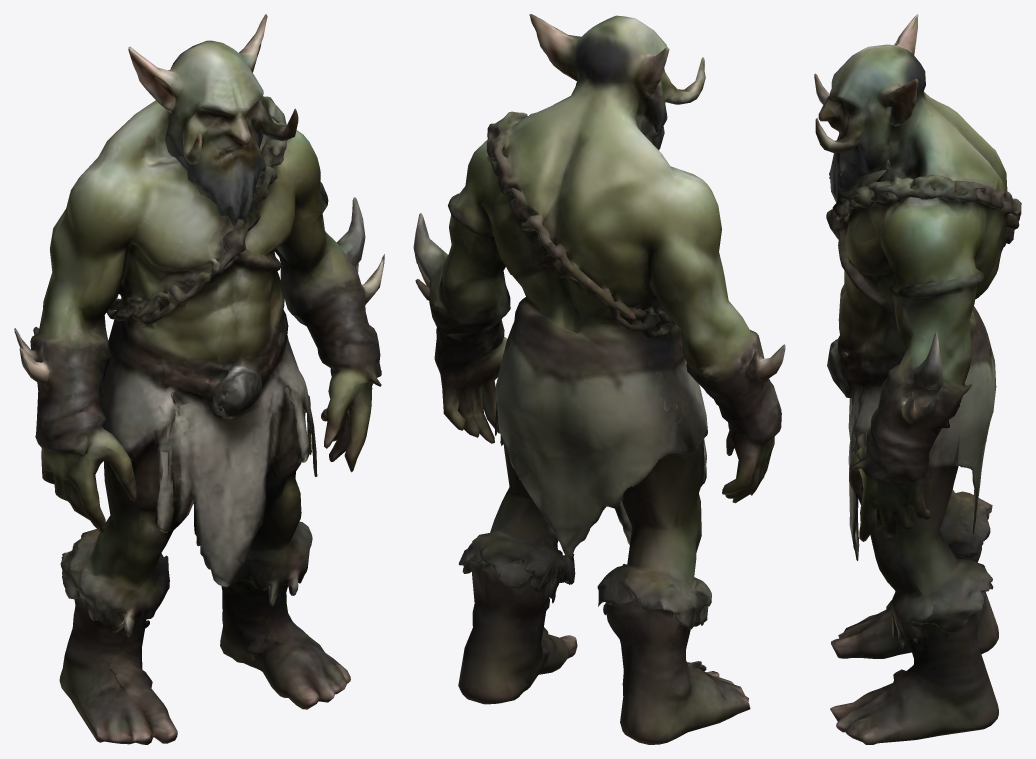
Rendered from g_2acef827.glb.
3 renders of one model, left to right at view 1: azimuth 30°, elevation 25°; view 2: azimuth 150°, elevation 25°; view 3: azimuth 270°, elevation 25°, orthographic. The views are drawn at different scales.
Parts seen in each view (by area): view 1: Mesh_0; view 2: Mesh_0; view 3: Mesh_0.
Boxes of the visible parts, x1,y1,x2,y2 form: Mesh_0: (14, 14, 384, 744); Mesh_0: (413, 14, 785, 744); Mesh_0: (814, 14, 1021, 744).
Size of the model in its own units: 1.21 by 2.1 by 0.6131.
1 material, 1 textured.
